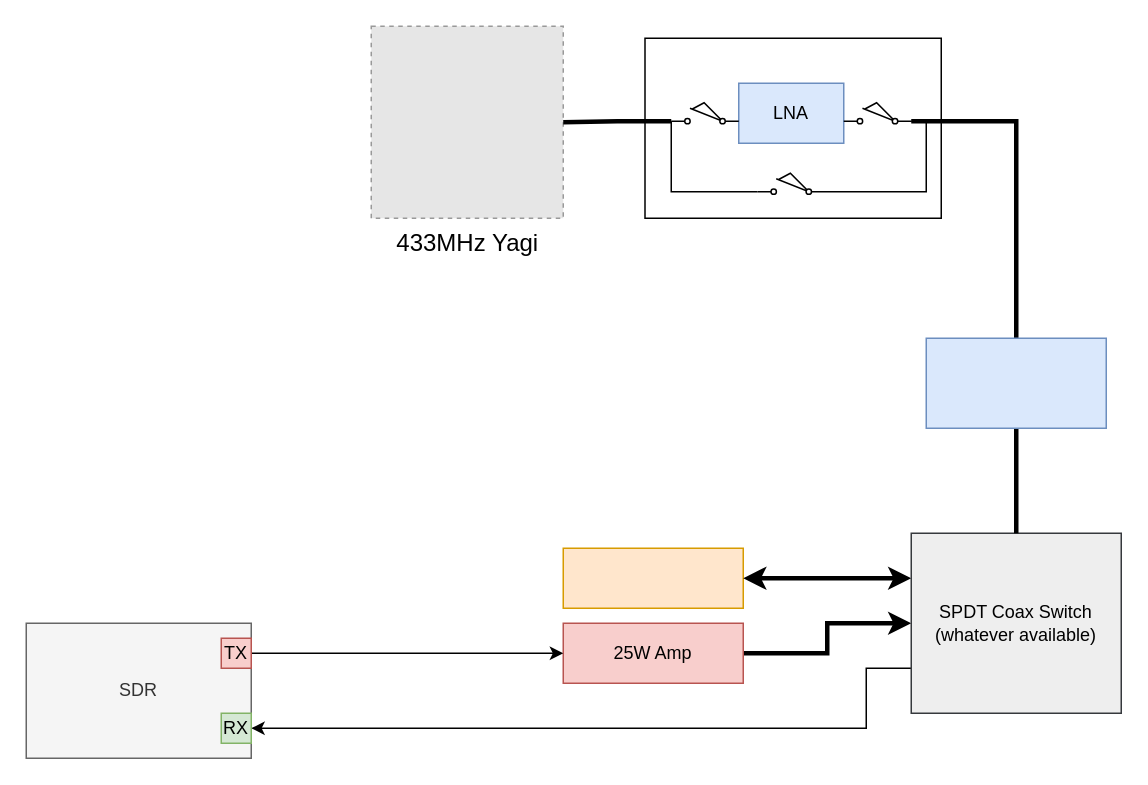
Image size: 1148x785. Some labels were removed from this diagram. Grey dashed boxes stand in for pictures. Here are the shapes that lost their labels. From the top down, the box of each, then its label:
(644, 37, 941, 218): LNA Mast Box
(925, 337, 1106, 428): LNA Control Box
(562, 547, 743, 608): HAM Radio
